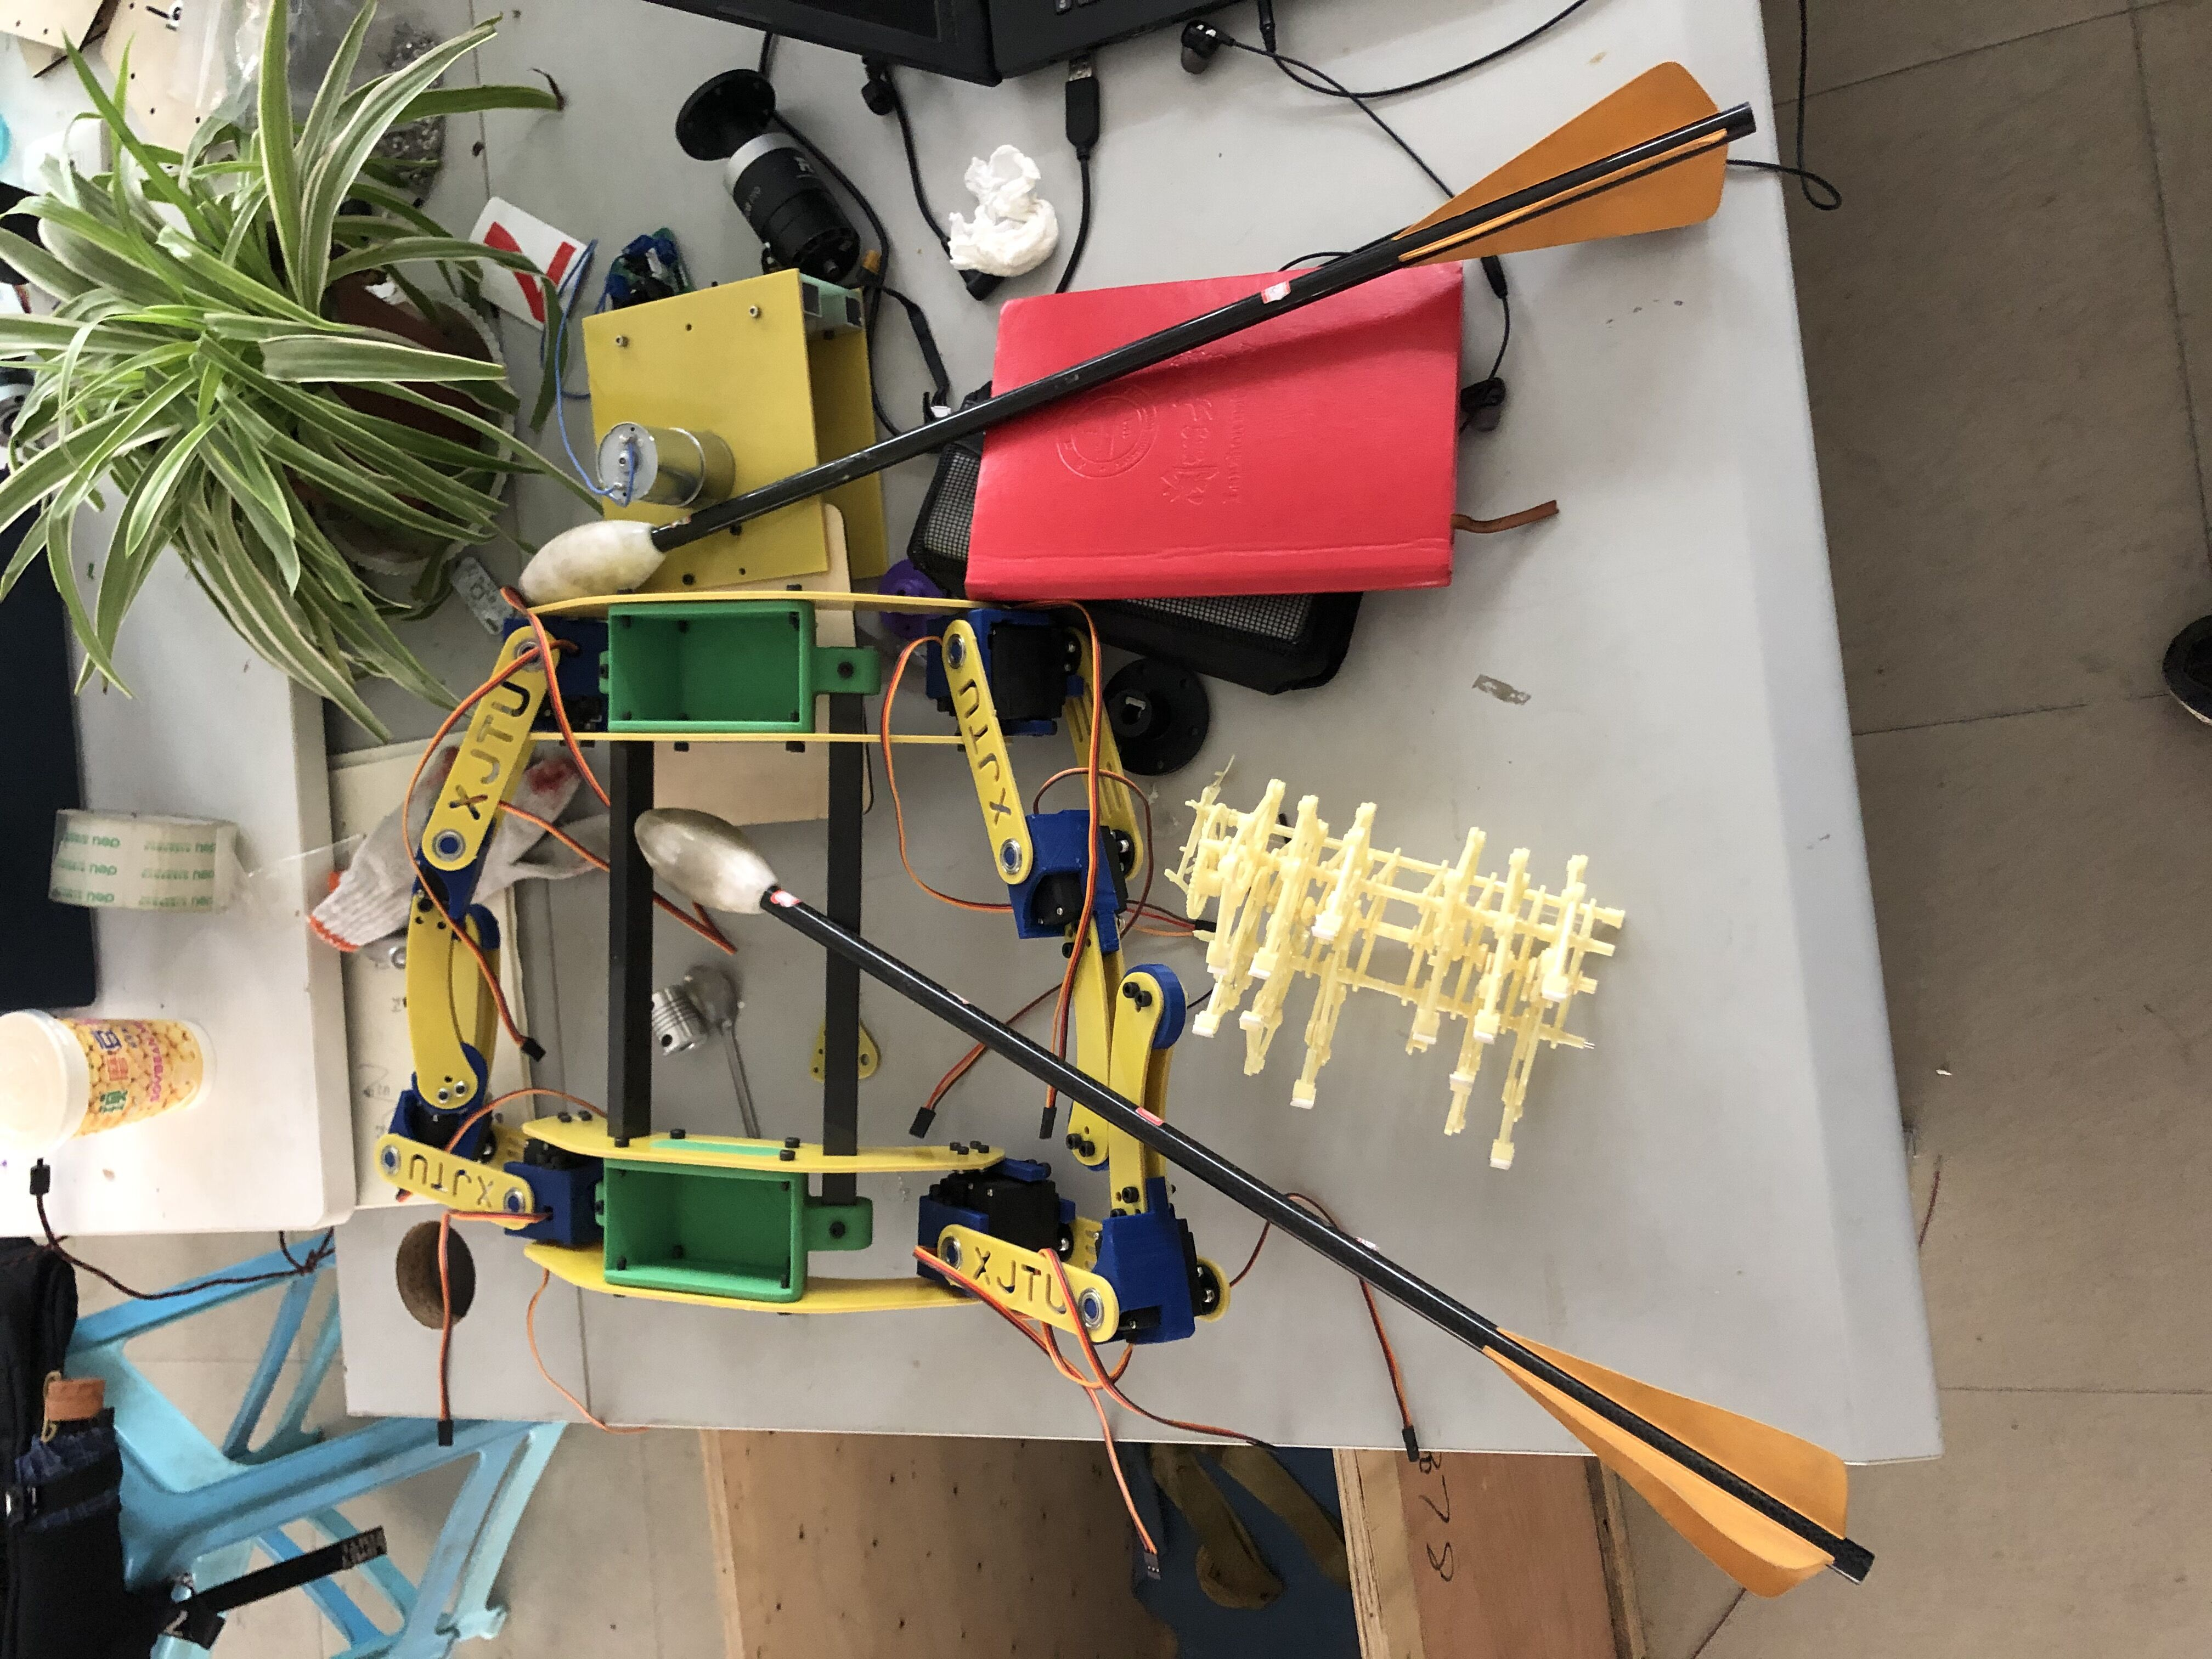arrow: (634, 810, 1874, 1598), (519, 64, 1757, 617)
arrowFront: (632, 807, 784, 911), (519, 518, 672, 615)
